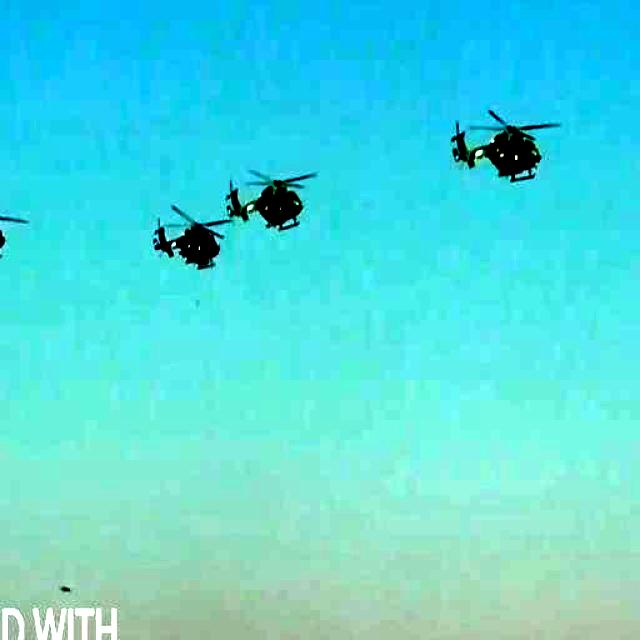drone: (449, 105, 568, 185), (210, 164, 319, 235), (150, 202, 226, 270), (0, 196, 29, 264)
